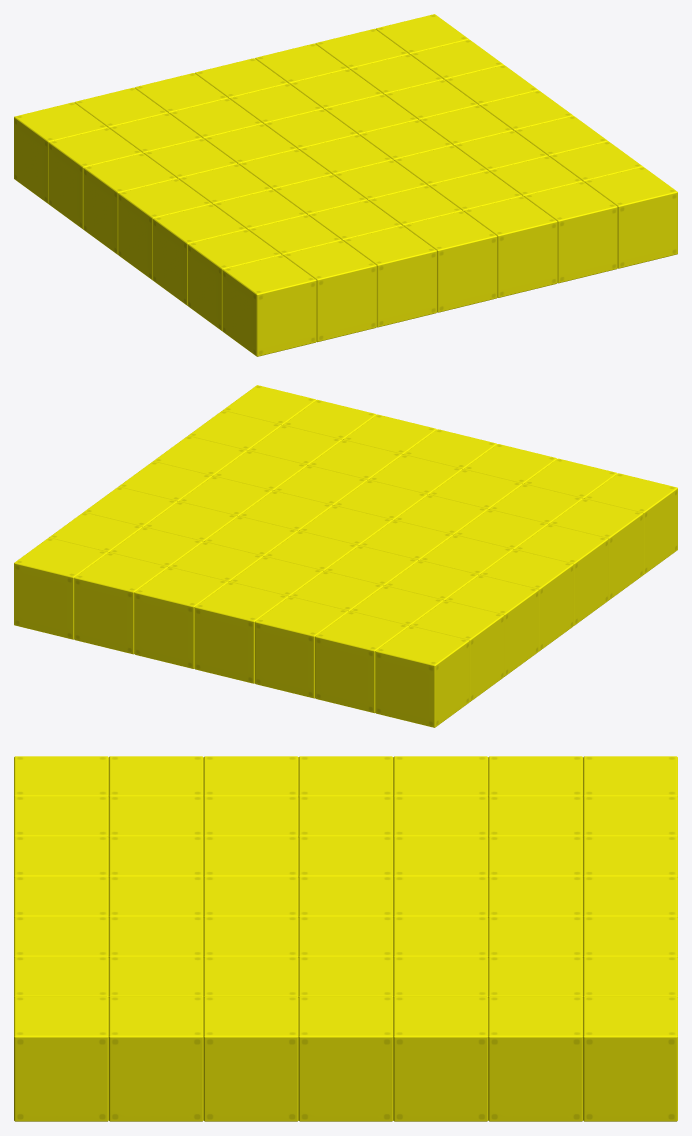
Rendered from yuka.fbx.
3 renders of one model, top to bottom at view 1: azimuth 30°, elevation 25°; view 2: azimuth 150°, elevation 25°; view 3: azimuth 270°, elevation 25°, orthographic. The views are drawn at different scales.
Parts seen in each view (by area): view 1: WorkBlockBig__6__6, WorkBlockBig__6__2, WorkBlockBig__6_, WorkBlockBig__6__1, WorkBlockBig__6__5, WorkBlockBig__6__3, WorkBlockBig__6__4, WorkBlockBig__3__6, WorkBlockBig__2__6, WorkBlockBig_6, WorkBlockBig__5__6, WorkBlockBig__1__6 (+37 smaller); view 2: WorkBlockBig__4__6, WorkBlockBig__4__2, WorkBlockBig__4_, WorkBlockBig__4__1, WorkBlockBig__4__5, WorkBlockBig__4__3, WorkBlockBig__4__4, WorkBlockBig__5__6, WorkBlockBig__1__6, WorkBlockBig_6, WorkBlockBig__3__6, WorkBlockBig__2__6 (+37 smaller); view 3: WorkBlockBig_3, WorkBlockBig__1__3, WorkBlockBig__2__3, WorkBlockBig__3__3, WorkBlockBig__5__3, WorkBlockBig__4__3, WorkBlockBig__6__3, WorkBlockBig__1__5, WorkBlockBig__2__5, WorkBlockBig__1__6, WorkBlockBig__2__6, WorkBlockBig (+37 smaller).
Boxes of the visible parts, x1,y1,x2,y2 form: WorkBlockBig__6__6: [222, 255, 316, 356]; WorkBlockBig__6__2: [524, 181, 617, 283]; WorkBlockBig__6_: [403, 211, 497, 312]; WorkBlockBig__6__1: [463, 196, 557, 297]; WorkBlockBig__6__5: [283, 240, 376, 342]; WorkBlockBig__6__3: [584, 166, 677, 268]; WorkBlockBig__6__4: [343, 225, 436, 327]; WorkBlockBig__3__6: [48, 127, 142, 229]; WorkBlockBig__2__6: [83, 153, 177, 254]; WorkBlockBig_6: [118, 178, 211, 280]; WorkBlockBig__5__6: [188, 229, 281, 331]; WorkBlockBig__1__6: [153, 204, 246, 305]; WorkBlockBig__4__6: [375, 626, 469, 727]; WorkBlockBig__4__2: [74, 552, 167, 654]; WorkBlockBig__4_: [194, 582, 288, 683]; WorkBlockBig__4__1: [134, 567, 228, 668]; WorkBlockBig__4__5: [315, 611, 408, 713]; WorkBlockBig__4__3: [14, 537, 107, 639]; WorkBlockBig__4__4: [255, 596, 348, 698]; WorkBlockBig__5__6: [549, 498, 643, 600]; WorkBlockBig__1__6: [514, 524, 608, 625]; WorkBlockBig_6: [480, 549, 573, 651]; WorkBlockBig__3__6: [410, 600, 503, 702]; WorkBlockBig__2__6: [445, 575, 538, 676]; WorkBlockBig_3: [298, 996, 393, 1121]; WorkBlockBig__1__3: [203, 996, 298, 1121]; WorkBlockBig__2__3: [393, 996, 488, 1121]; WorkBlockBig__3__3: [488, 996, 582, 1121]; WorkBlockBig__5__3: [109, 996, 203, 1121]; WorkBlockBig__4__3: [583, 996, 677, 1121]; WorkBlockBig__6__3: [14, 996, 108, 1121]; WorkBlockBig__1__5: [203, 796, 298, 837]; WorkBlockBig__2__5: [393, 796, 488, 837]; WorkBlockBig__1__6: [203, 756, 298, 797]; WorkBlockBig__2__6: [393, 756, 488, 797]; WorkBlockBig: [298, 876, 393, 916].
Bounding box in the file's own units: 5600 × 800 × 5600.
